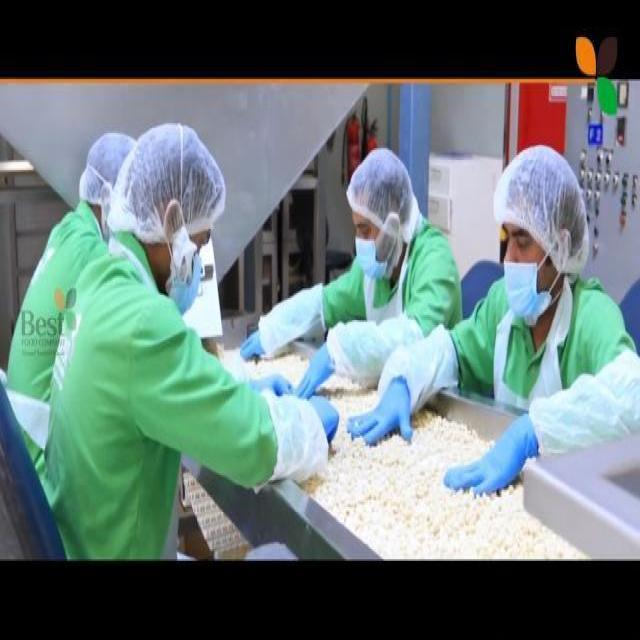gloved_hand: (443, 411, 533, 507), (343, 371, 416, 451), (297, 386, 348, 456), (290, 323, 338, 396), (246, 362, 295, 406), (236, 328, 272, 372)
